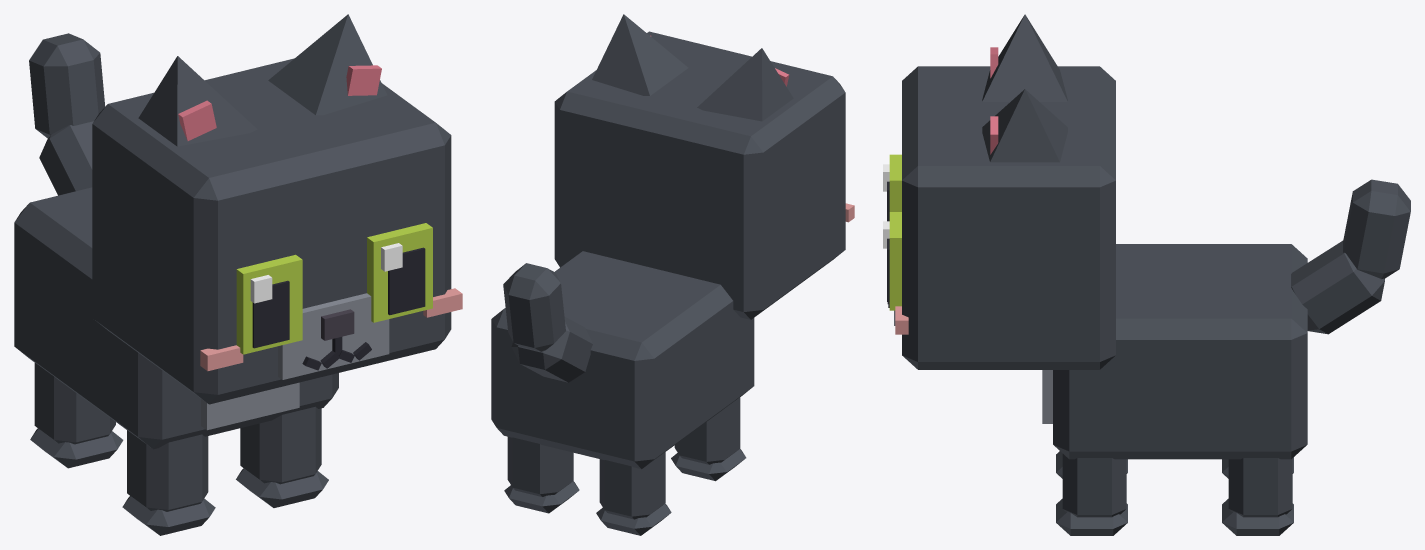
Rendered from CatCafe_Cat_Smoke.glb.
The picture shows the model from 3 angles, left to right: view 1: azimuth 30°, elevation 25°; view 2: azimuth 150°, elevation 25°; view 3: azimuth 270°, elevation 25°; orthographic projection. The views are drawn at different scales.
Parts seen in each view (by area): view 1: CatCafe_Cat_Smoke_Head, CatCafe_Cat_Smoke_Body, CatCafe_Cat_Smoke_Tail, CatCafe_Cat_Smoke_LegF2, CatCafe_Cat_Smoke_LegF1, CatCafe_Cat_Smoke_EarL, CatCafe_Cat_Smoke_Eye2, CatCafe_Cat_Smoke_LegB2, CatCafe_Cat_Smoke_Eye1, CatCafe_Cat_Smoke_EarR; view 2: CatCafe_Cat_Smoke_Head, CatCafe_Cat_Smoke_Body, CatCafe_Cat_Smoke_Tail, CatCafe_Cat_Smoke_LegB2, CatCafe_Cat_Smoke_EarL, CatCafe_Cat_Smoke_LegB1, CatCafe_Cat_Smoke_EarR, CatCafe_Cat_Smoke_LegF2; view 3: CatCafe_Cat_Smoke_Head, CatCafe_Cat_Smoke_Body, CatCafe_Cat_Smoke_Tail, CatCafe_Cat_Smoke_LegF1, CatCafe_Cat_Smoke_LegB1, CatCafe_Cat_Smoke_EarL, CatCafe_Cat_Smoke_EarR, CatCafe_Cat_Smoke_Eye1, CatCafe_Cat_Smoke_Eye2.
Boxes of the visible parts, box(x1,y1,x2,y2) form: CatCafe_Cat_Smoke_Head: box(92, 58, 462, 404); CatCafe_Cat_Smoke_Body: box(14, 187, 338, 449); CatCafe_Cat_Smoke_Tail: box(29, 33, 105, 195); CatCafe_Cat_Smoke_LegF2: box(122, 430, 215, 535); CatCafe_Cat_Smoke_LegF1: box(236, 406, 328, 507); CatCafe_Cat_Smoke_EarL: box(268, 14, 387, 115); CatCafe_Cat_Smoke_Eye2: box(236, 254, 302, 354); CatCafe_Cat_Smoke_LegB2: box(30, 362, 123, 468); CatCafe_Cat_Smoke_Eye1: box(367, 223, 432, 322); CatCafe_Cat_Smoke_EarR: box(138, 56, 257, 146); CatCafe_Cat_Smoke_Head: box(554, 31, 854, 319); CatCafe_Cat_Smoke_Body: box(491, 251, 754, 469); CatCafe_Cat_Smoke_Tail: box(503, 263, 592, 382); CatCafe_Cat_Smoke_LegB2: box(596, 452, 671, 535); CatCafe_Cat_Smoke_EarL: box(592, 14, 688, 95); CatCafe_Cat_Smoke_LegB1: box(504, 437, 579, 513); CatCafe_Cat_Smoke_EarR: box(697, 48, 793, 121); CatCafe_Cat_Smoke_LegF2: box(671, 397, 746, 481); CatCafe_Cat_Smoke_Head: box(887, 66, 1115, 369); CatCafe_Cat_Smoke_Body: box(1042, 244, 1307, 459); CatCafe_Cat_Smoke_Tail: box(1291, 179, 1410, 334); CatCafe_Cat_Smoke_LegF1: box(1056, 454, 1127, 535); CatCafe_Cat_Smoke_LegB1: box(1222, 458, 1293, 535); CatCafe_Cat_Smoke_EarL: box(982, 89, 1067, 162); CatCafe_Cat_Smoke_EarR: box(982, 14, 1067, 101); CatCafe_Cat_Smoke_Eye1: box(883, 212, 901, 310); CatCafe_Cat_Smoke_Eye2: box(883, 154, 901, 221).
Size of the model in its own units: 1 by 1.86 by 1.97.
1 material, 1 textured.
